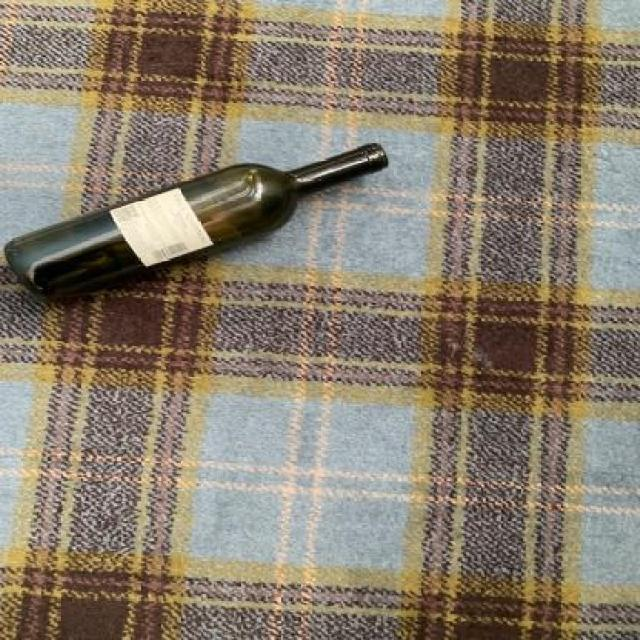trash: (2, 144, 396, 299)
